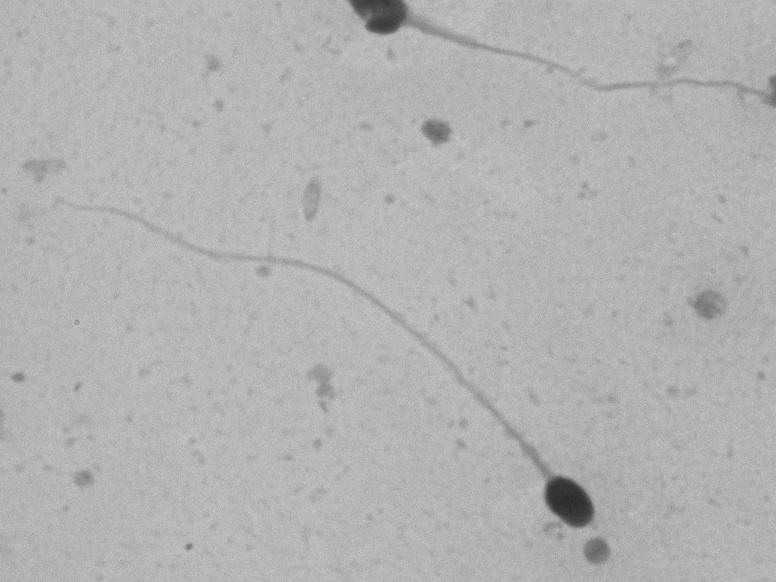Normal: (37, 183, 617, 545)
